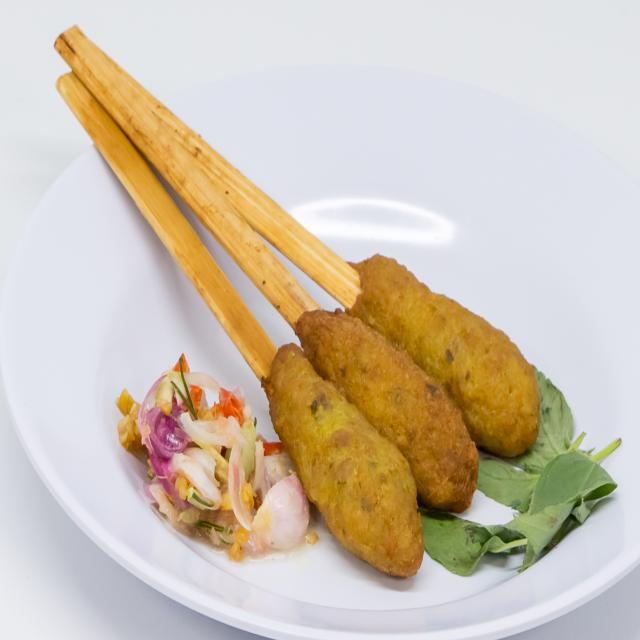Sate-Lilit: (96, 162, 597, 602)
